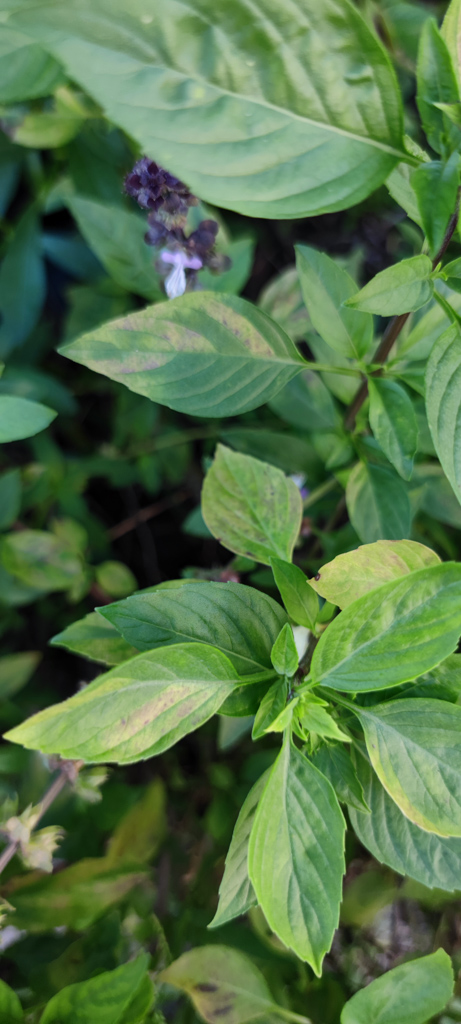Pepper yellow leaf: (20, 655, 230, 770)
